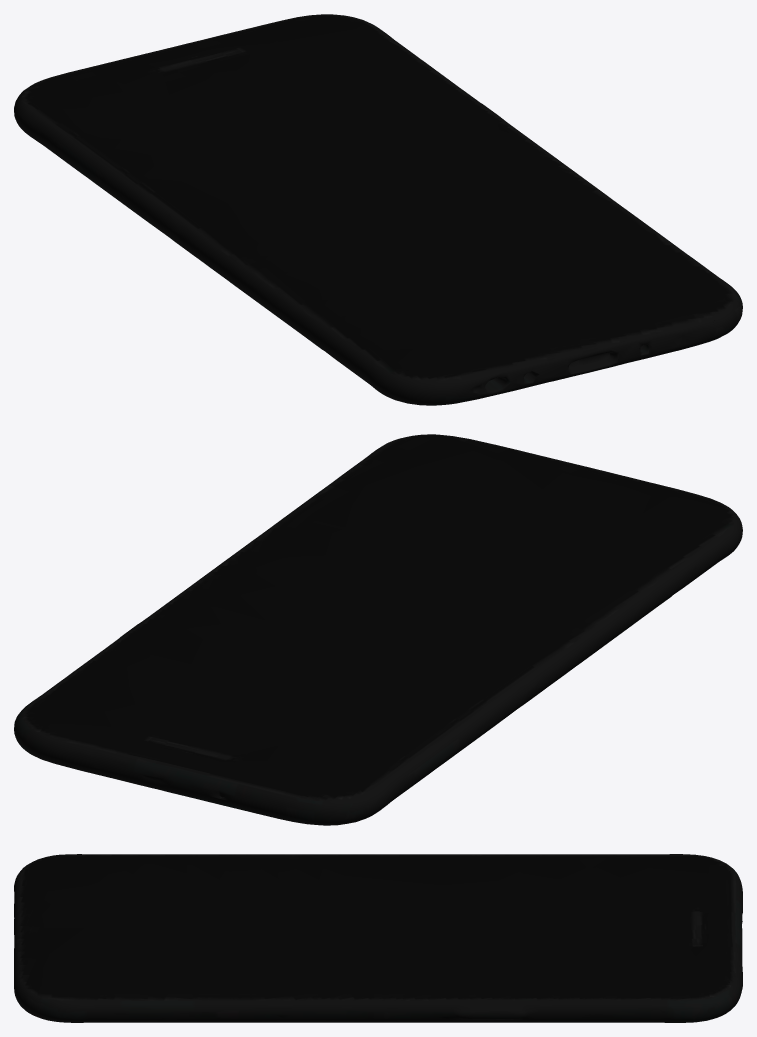
Rendered from phone.glb.
3 renders of one model, top to bottom at view 1: azimuth 30°, elevation 25°; view 2: azimuth 150°, elevation 25°; view 3: azimuth 270°, elevation 25°, orthographic. The views are drawn at different scales.
Visible parts, largest first — view 1: phone; view 2: phone; view 3: phone.
Boxes of the visible parts, x1,y1,x2,y2 form: phone: (14, 14, 742, 405); phone: (14, 434, 742, 825); phone: (14, 854, 742, 1022).
Bounding box in the file's own units: 0.46 × 0.035 × 0.92.
1 material, 1 textured.
